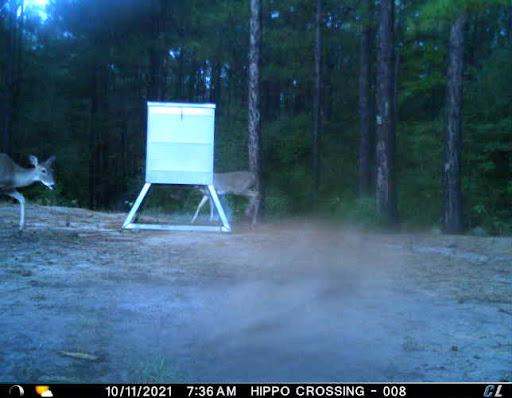Deer: (0, 142, 67, 243), (177, 165, 270, 229)
